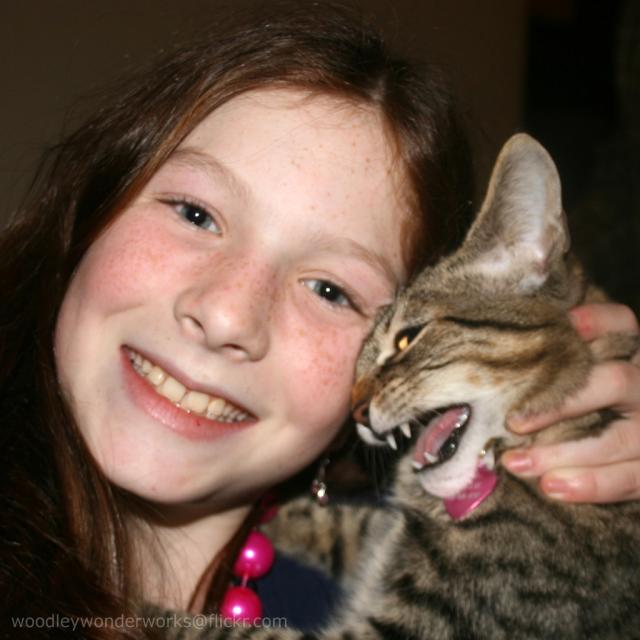Cat: (137, 132, 639, 638)
